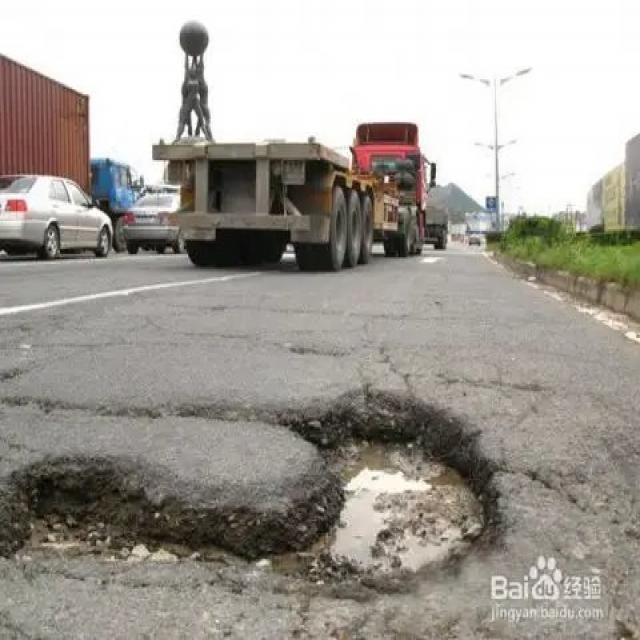Pothole: (1, 390, 502, 590)
